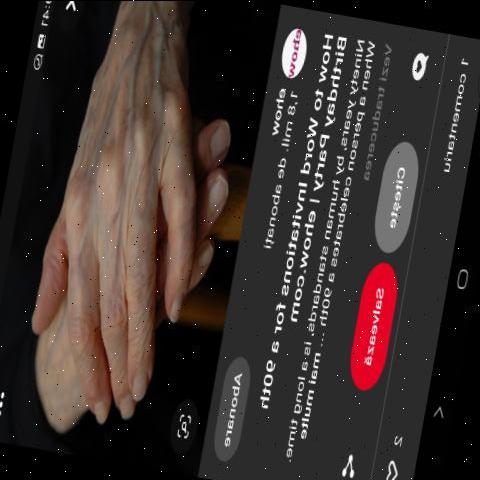Hands: (19, 32, 218, 439)
